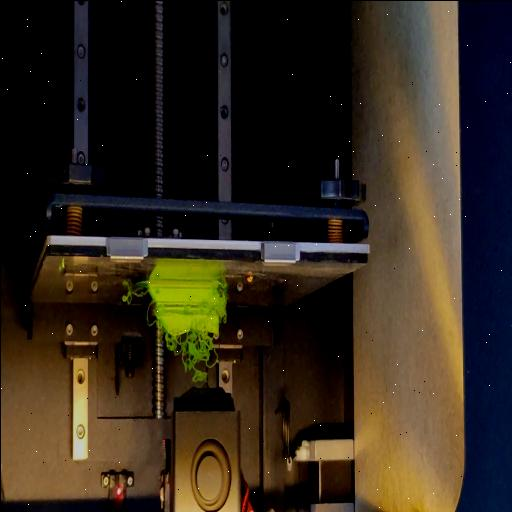spaghetti: (164, 333, 218, 385), (119, 284, 147, 304), (145, 298, 157, 327), (218, 280, 226, 292)
